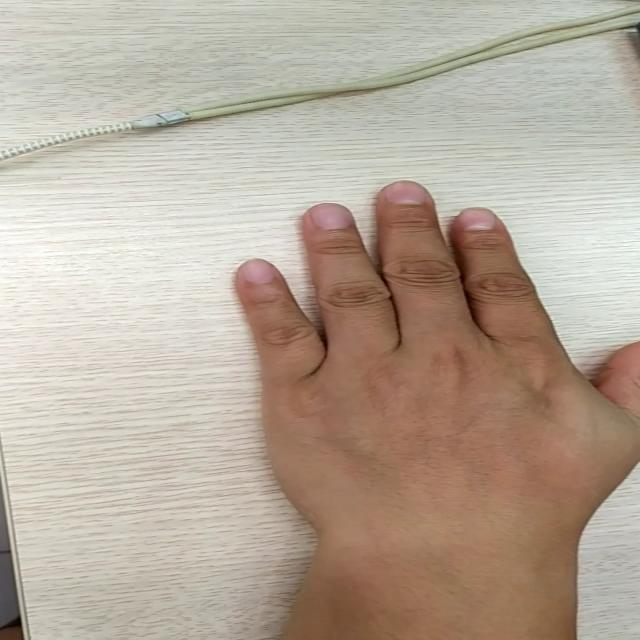hand: (226, 173, 640, 569)
